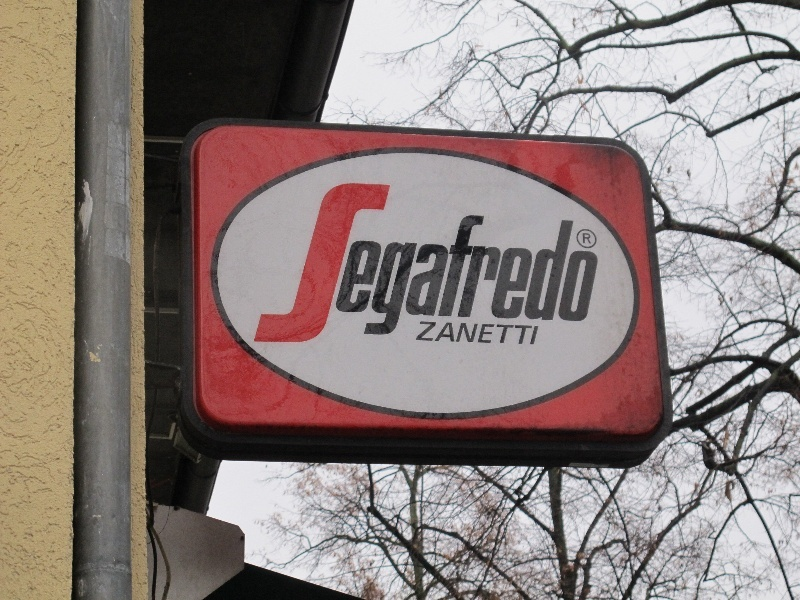text: (321, 182, 336, 350), (337, 182, 352, 350), (353, 182, 368, 350), (369, 182, 384, 350), (385, 182, 400, 350), (401, 182, 416, 350), (417, 182, 432, 350), (433, 182, 448, 350), (449, 182, 464, 350), (465, 182, 480, 350), (481, 182, 496, 350), (497, 182, 512, 350), (513, 182, 528, 350), (529, 182, 544, 350), (545, 182, 560, 350), (561, 182, 576, 350), (577, 182, 592, 350), (310, 182, 320, 350), (593, 182, 601, 350), (433, 322, 448, 346), (449, 322, 464, 346), (465, 322, 480, 346), (481, 322, 496, 346), (497, 322, 512, 346), (513, 322, 528, 346), (421, 322, 432, 346), (529, 322, 540, 346), (583, 233, 592, 244)
